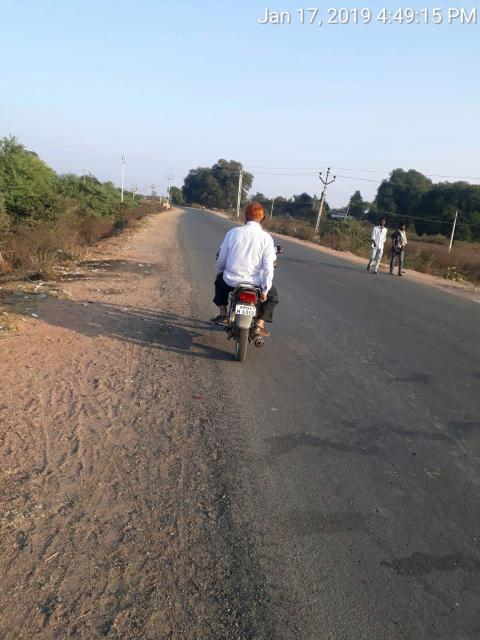motor: (214, 245, 287, 366)
non-helm: (245, 202, 268, 229)
